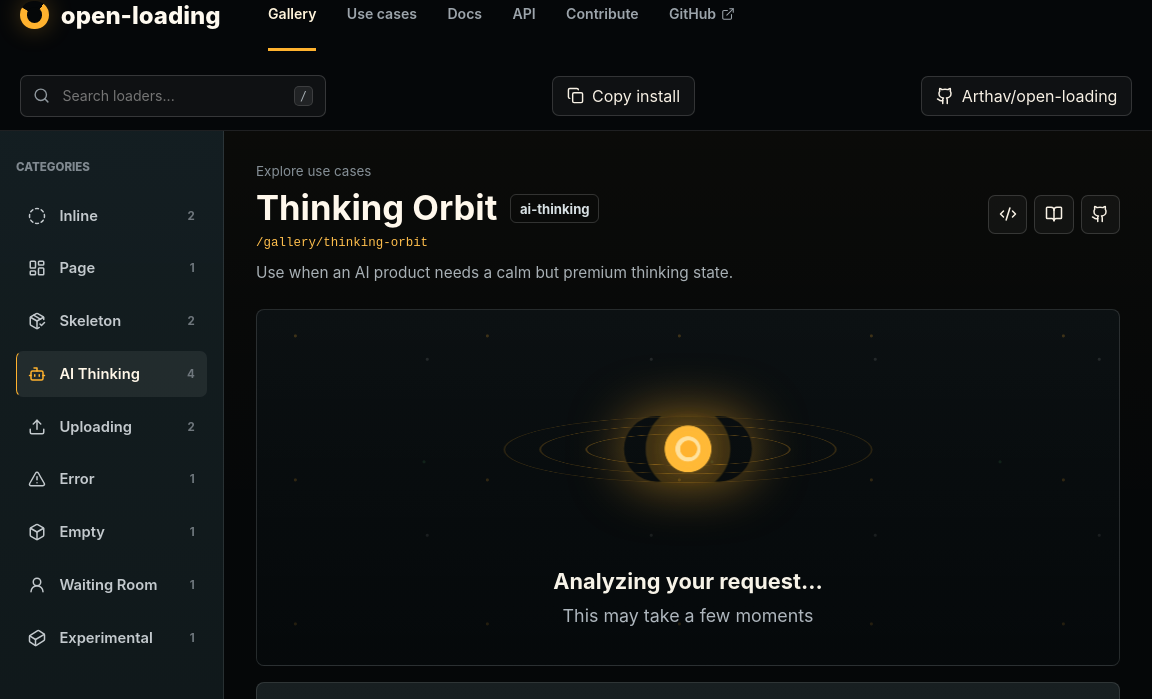
it: gallery app › disables error controls for loaders without error support
Click the button "Inline 2".
click(112, 216)  # box top-left (16, 193), bottom-right (207, 238)
(page scrolled)
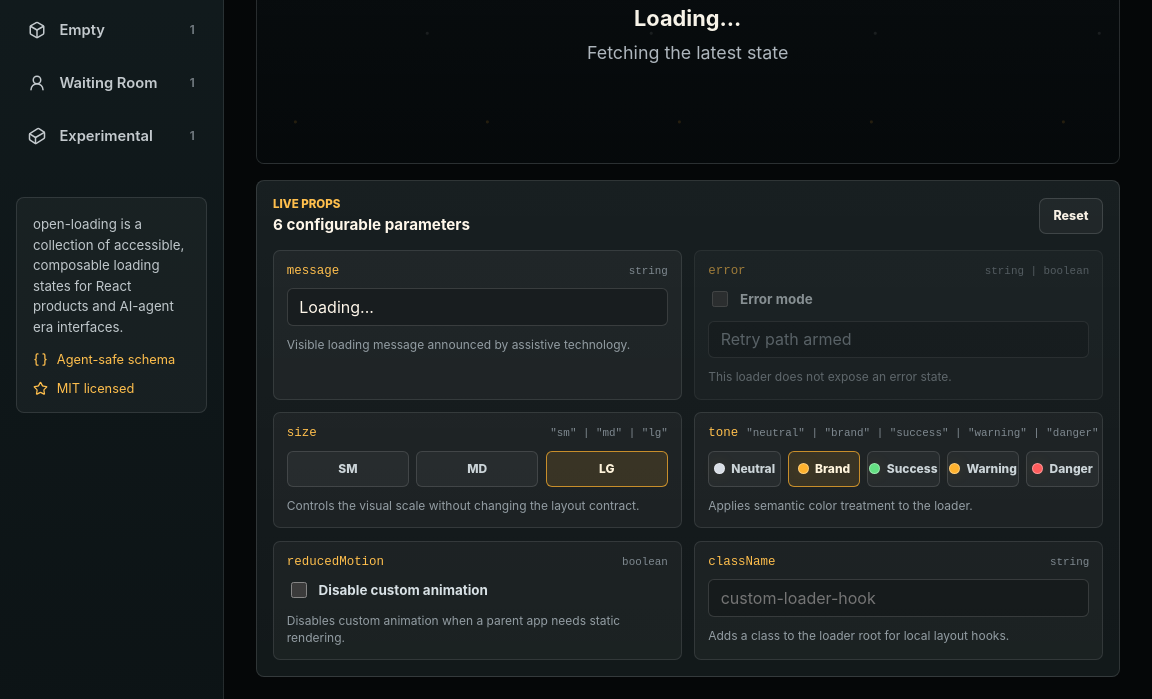
Expected: the field named "Error message" is disabled, top-left (708, 320), bottom-right (1089, 358)
Result: the checkbox named "Enable error mode" is disabled at top-left (712, 291), bottom-right (728, 307)
